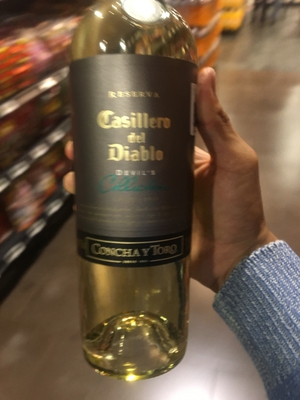casillero del diablo devils collection verde: (52, 6, 216, 334)
